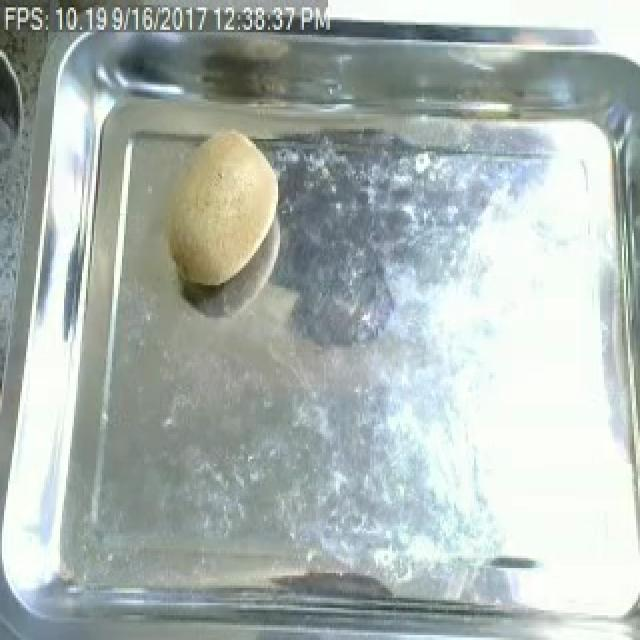Fruit: (116, 107, 292, 300)
